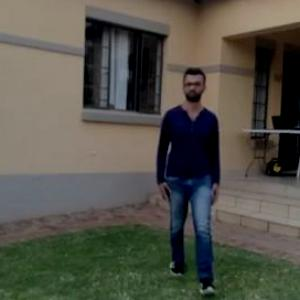follow: (151, 60, 222, 296)
